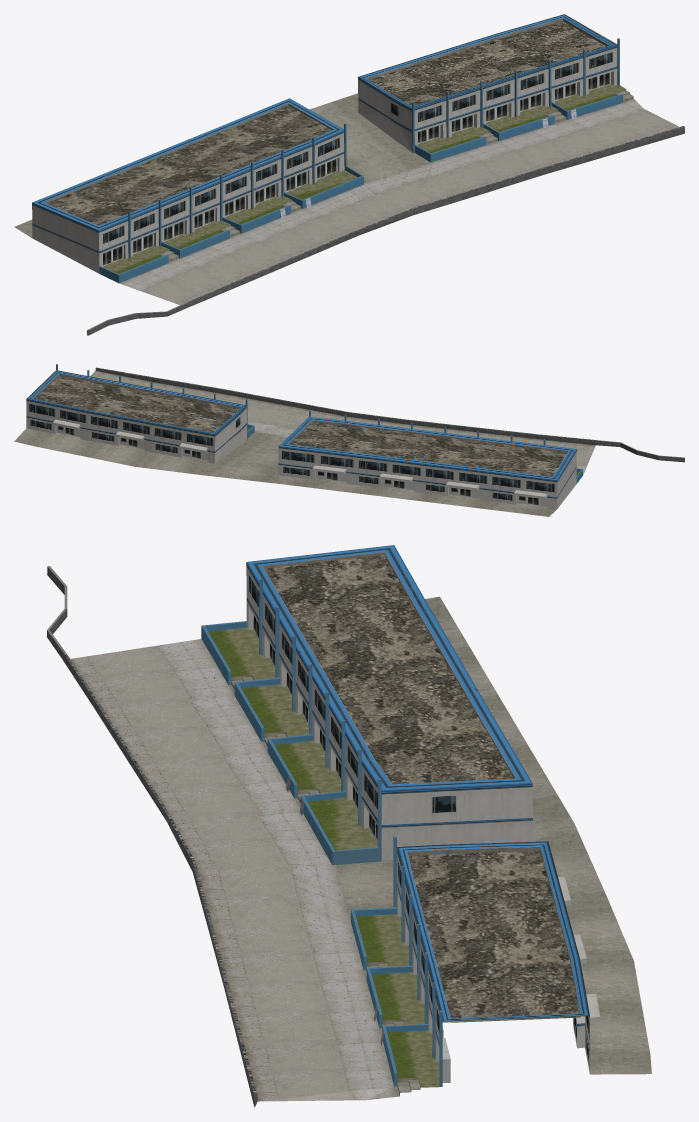
File: venblue01_law.obj
3 views of the same model, one above another, from view 1: azimuth 30°, elevation 25°; view 2: azimuth 150°, elevation 25°; view 3: azimuth 270°, elevation 25° (orthographic). The views are drawn at different scales.
Parts seen in each view (by area): view 1: venblue01_law; view 2: venblue01_law; view 3: venblue01_law.
Part boxes in pixels (x1,y1,x2,y2): venblue01_law: [14, 14, 684, 335]; venblue01_law: [14, 364, 684, 516]; venblue01_law: [47, 545, 651, 1107].
Size of the model in its own units: 105 by 8.41 by 51.31.
